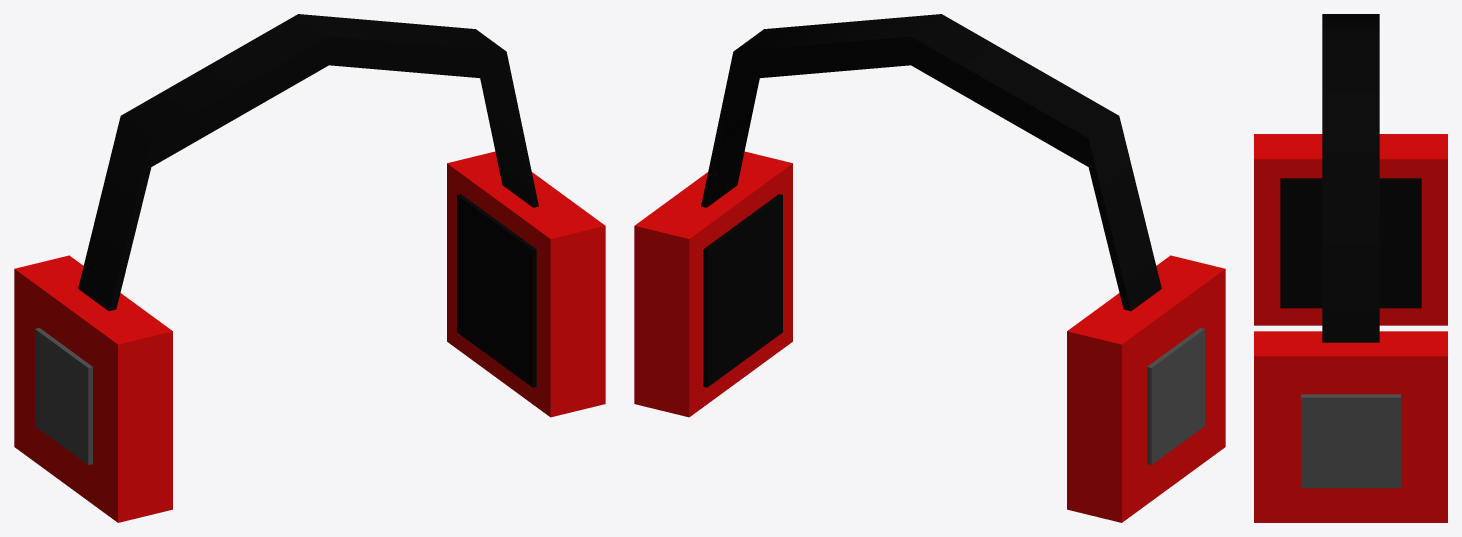
File: headphones.fbx
3 renders of one model, left to right at view 1: azimuth 30°, elevation 25°; view 2: azimuth 150°, elevation 25°; view 3: azimuth 270°, elevation 25°, orthographic. The views are drawn at different scales.
Visible parts, largest first — view 1: pCube1, pPlane1, pPlane2, pCube5, pCube2; view 2: pCube1, pPlane1, pPlane2, pCube5, pCube2; view 3: pPlane2, pCube1, pPlane1, pCube4, pCube3.
Boxes of the visible parts, box(x1,y1,x2,y2) form: pCube1: box(78, 14, 538, 311); pPlane1: box(14, 255, 172, 522); pPlane2: box(447, 151, 605, 417); pCube5: box(457, 194, 536, 387); pCube2: box(35, 328, 92, 464); pCube1: box(701, 14, 1161, 311); pPlane1: box(1067, 255, 1225, 522); pPlane2: box(634, 151, 792, 417); pCube5: box(703, 194, 782, 387); pCube2: box(1147, 328, 1204, 464); pPlane2: box(1254, 331, 1447, 522); pCube1: box(1322, 14, 1379, 342); pPlane1: box(1254, 134, 1447, 325); pCube4: box(1280, 178, 1421, 308); pCube3: box(1301, 394, 1400, 488).
Bounding box in the file's own units: 2.73 × 2.09 × 0.9827.
